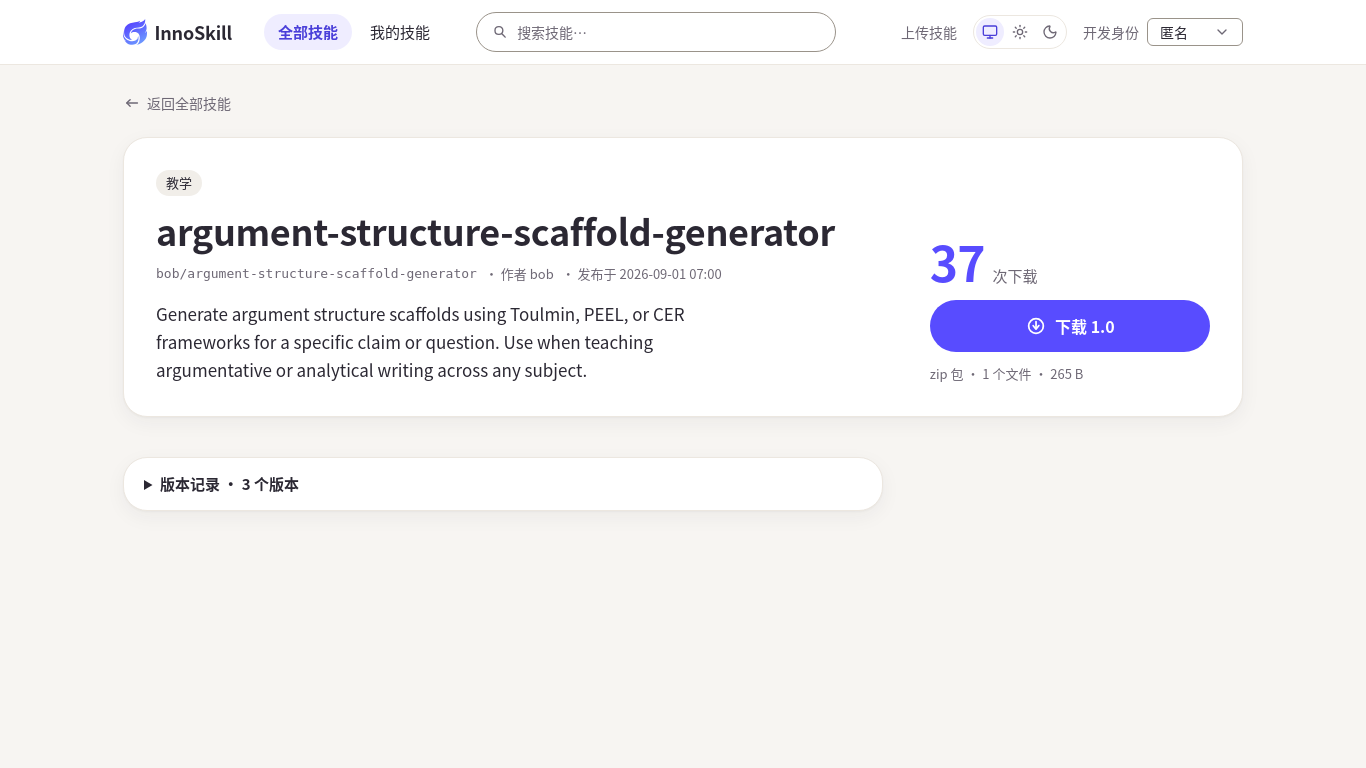
Test case: 导航栏搜索 › 在详情页搜：跳到列表页按关键词搜
Expected: the heading "argument-structure-scaffold-generator" is shown, left=156, top=208, right=882, bottom=252
Type "rubric" into the field labelled "搜索技能" at (669, 32), box left=517, top=13, right=821, bottom=51
Then press Enter
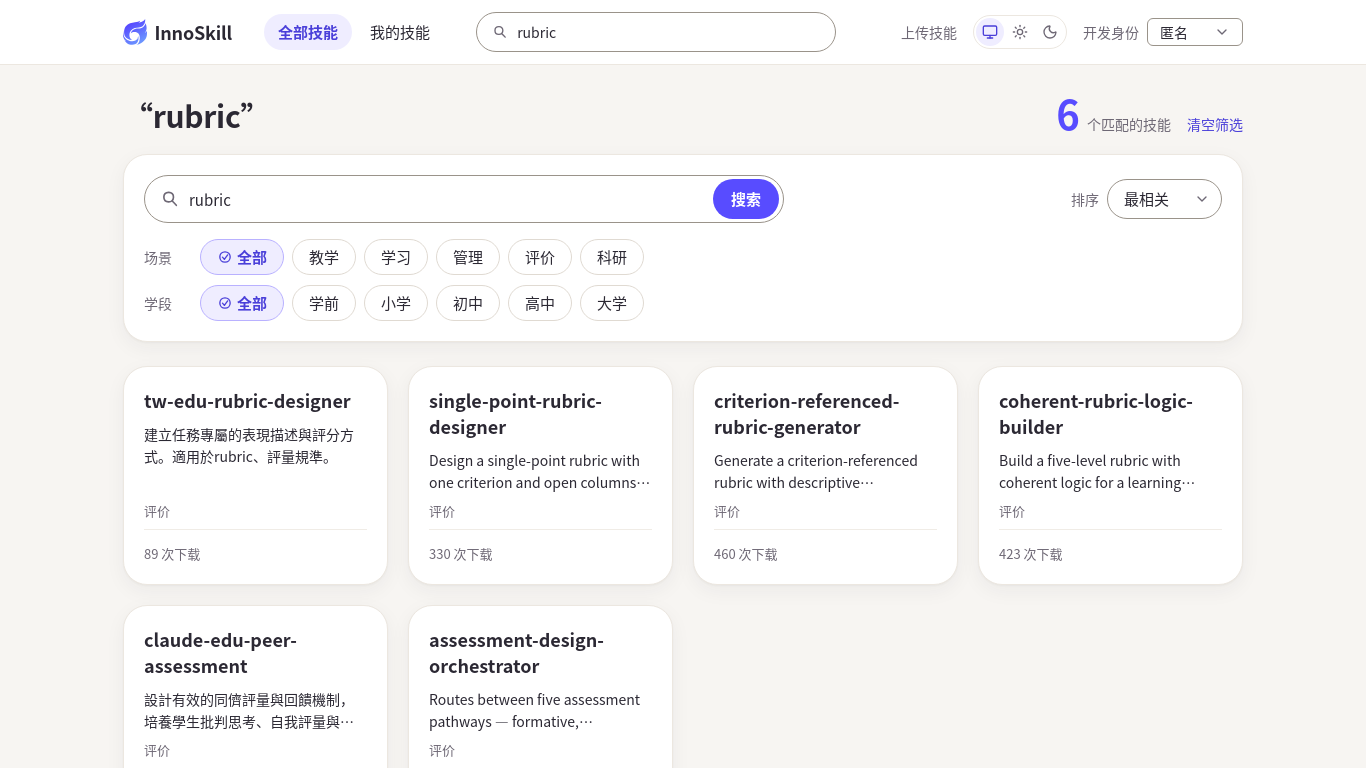
Expected: the link "single-point-rubric-designer" is shown, left=429, top=387, right=602, bottom=439
